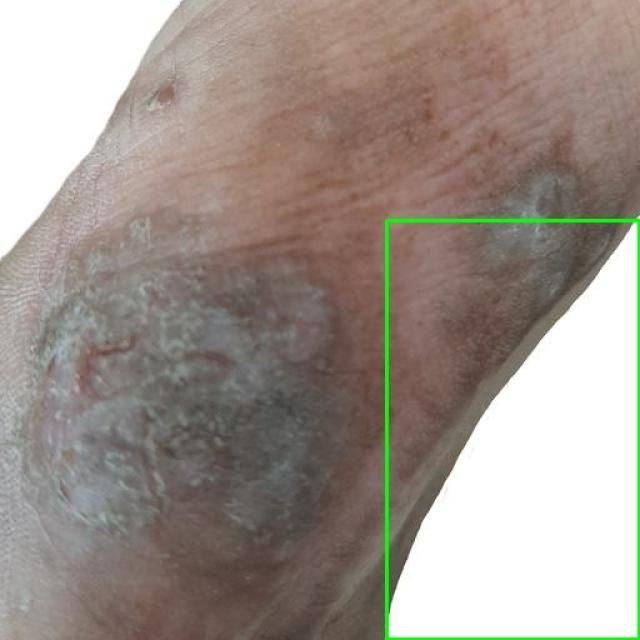Contact Dermatitis: (386, 220, 639, 639)
